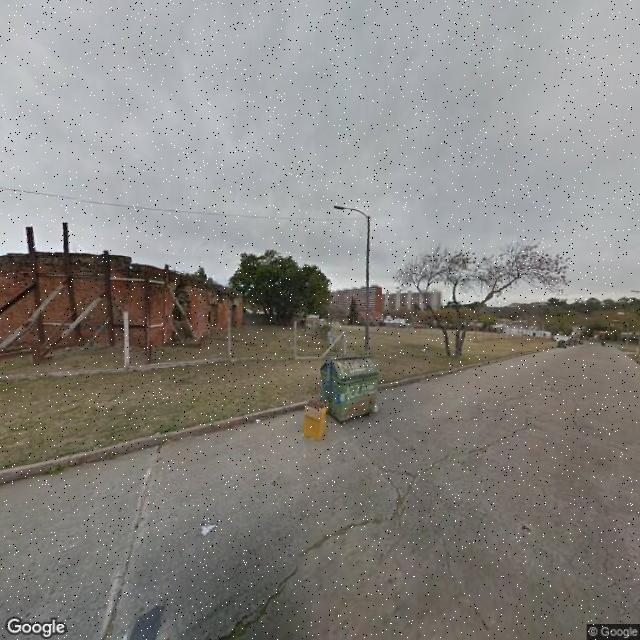garbage container: (312, 346, 390, 428)
